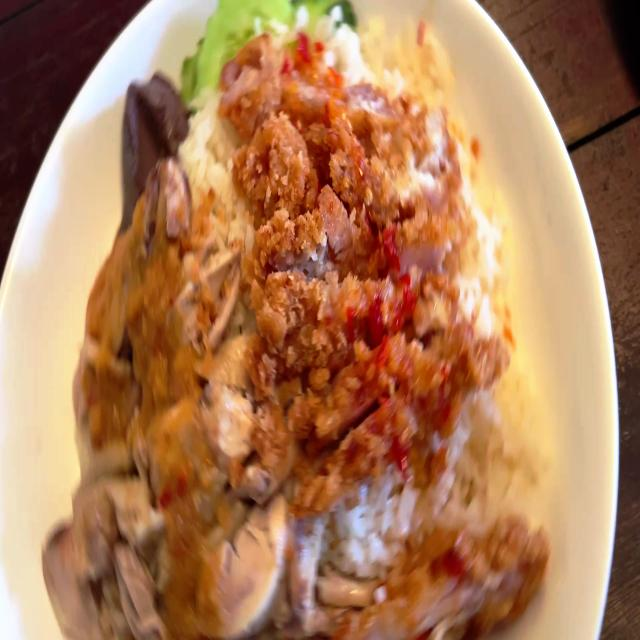boiled_chicken: (69, 174, 240, 640)
boiled_chicken_blood_jelly: (109, 60, 187, 201)
chicken_rice: (52, 0, 545, 640)
cucumber: (180, 0, 350, 86)
fried_chicken: (236, 60, 549, 636)
